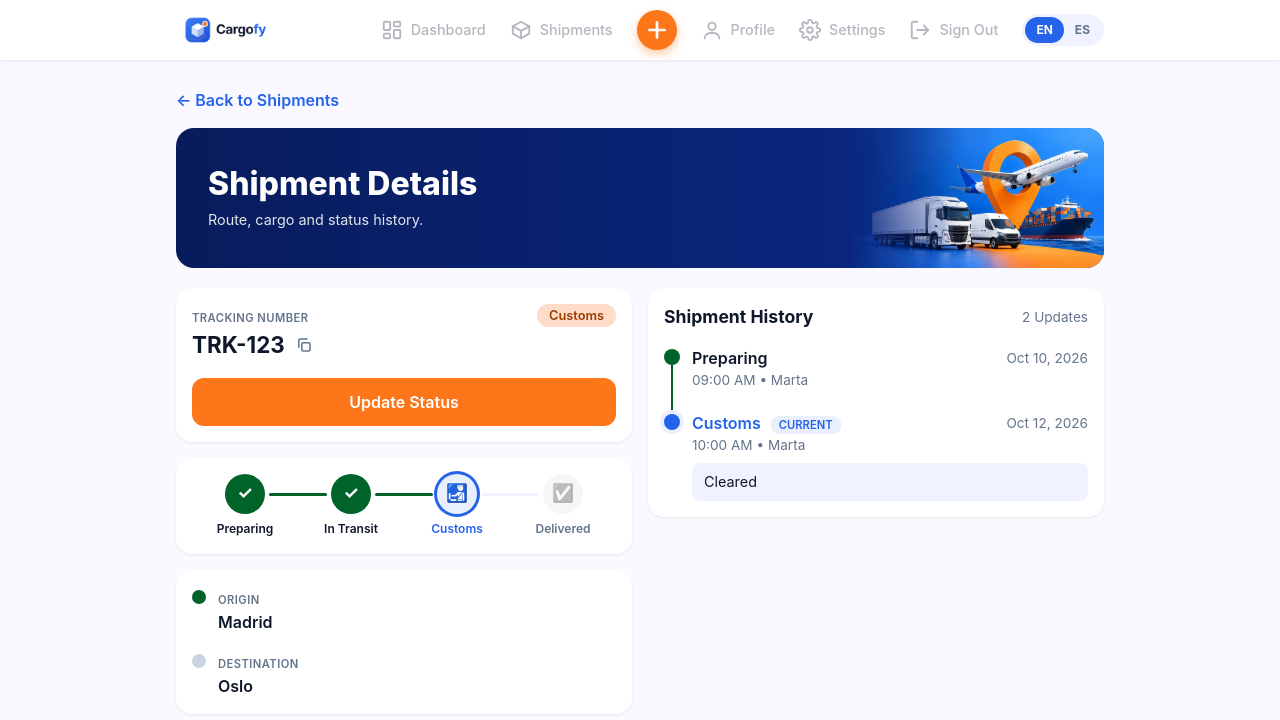
Test case: ShipmentDetailView › updates the status and closes the form after confirming
This screenshot has width=1280, height=720.
Click the button with class "detail__update": (404, 402) x1=192 y1=378 x2=616 y2=426
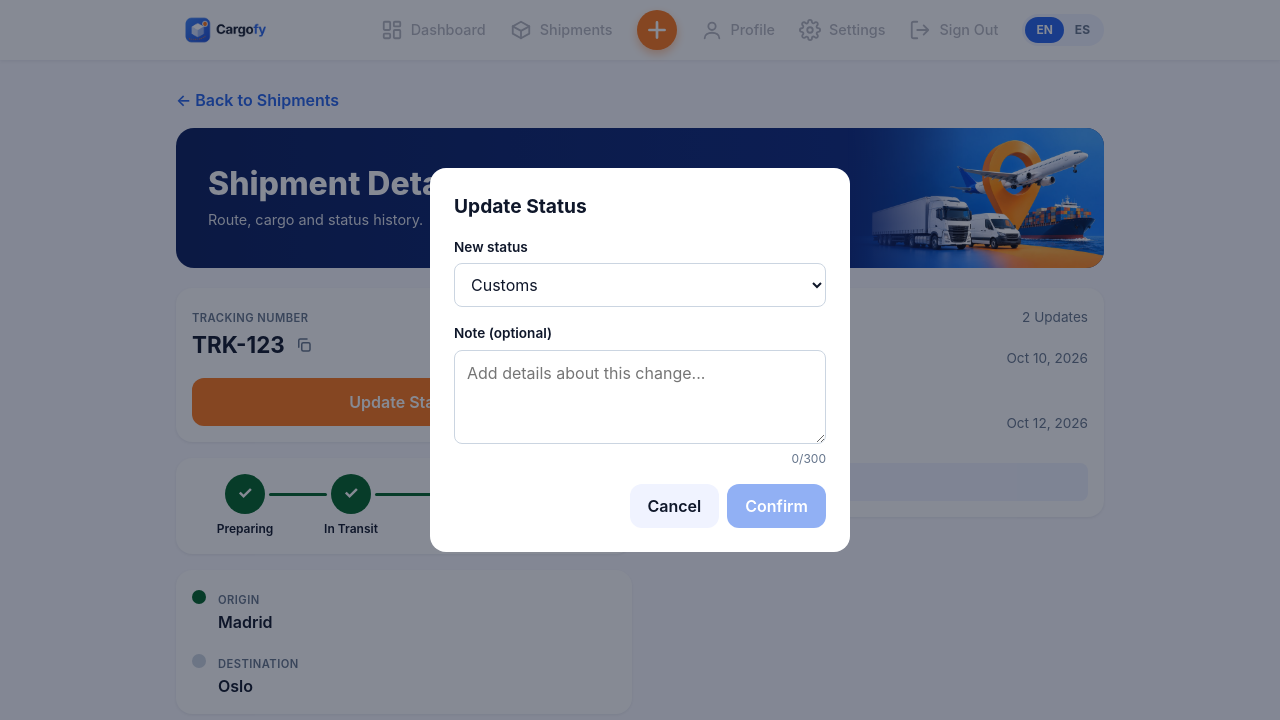
Select "Delivered" in the dropdown labelled "New status": (640, 285) x1=454 y1=263 x2=826 y2=307
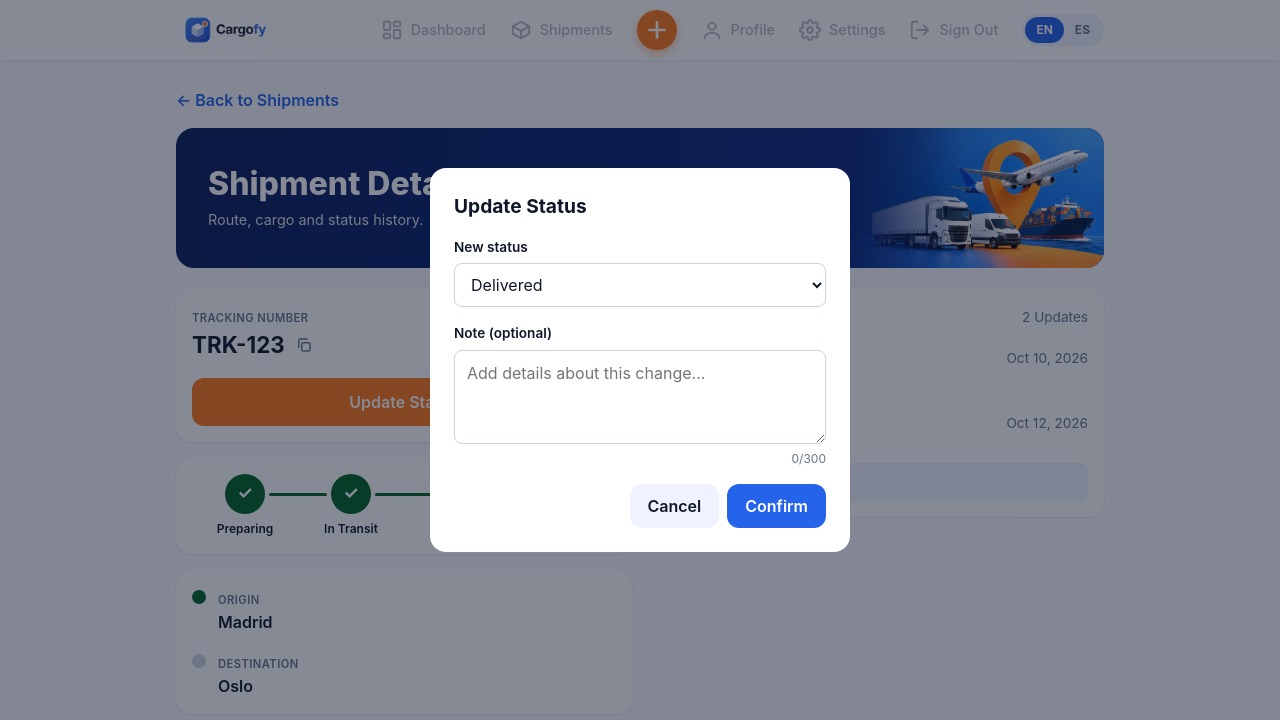
In the text box labelled "Note (optional) 0/300": (640, 397) x1=454 y1=350 x2=826 y2=444, type "Arrived"
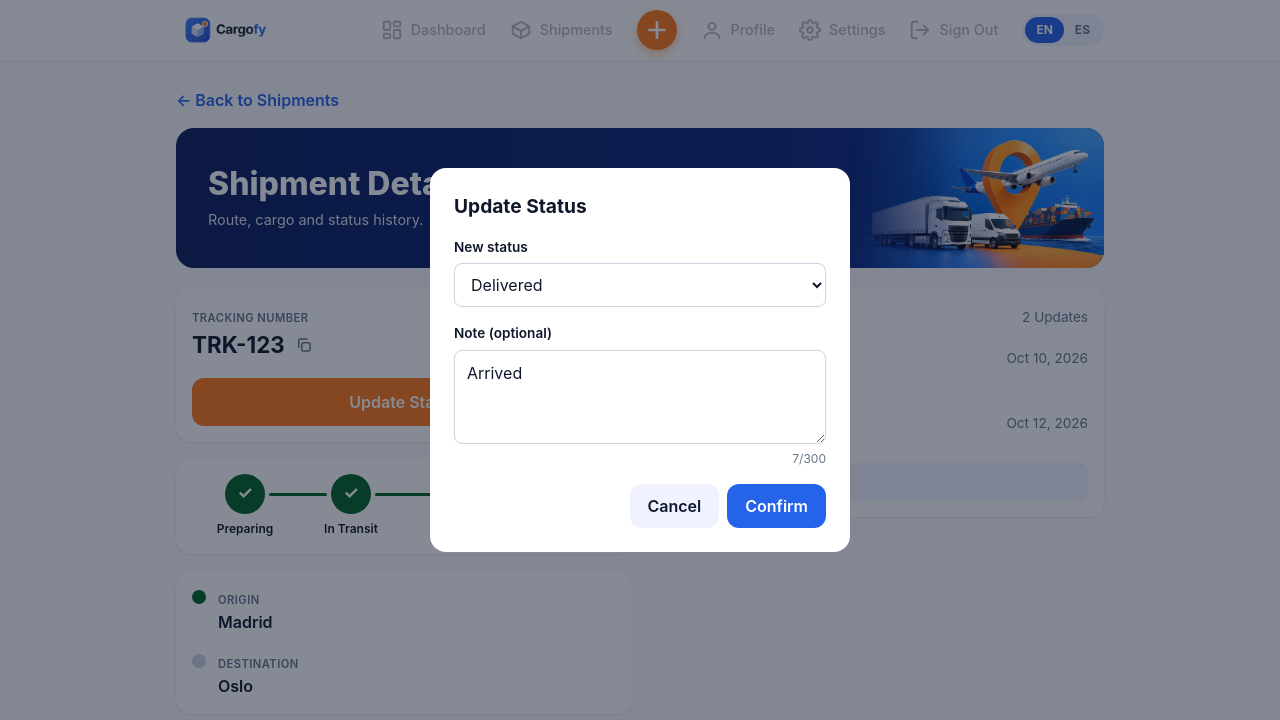
Submit the dialog, box x1=430 y1=168 x2=850 y2=552
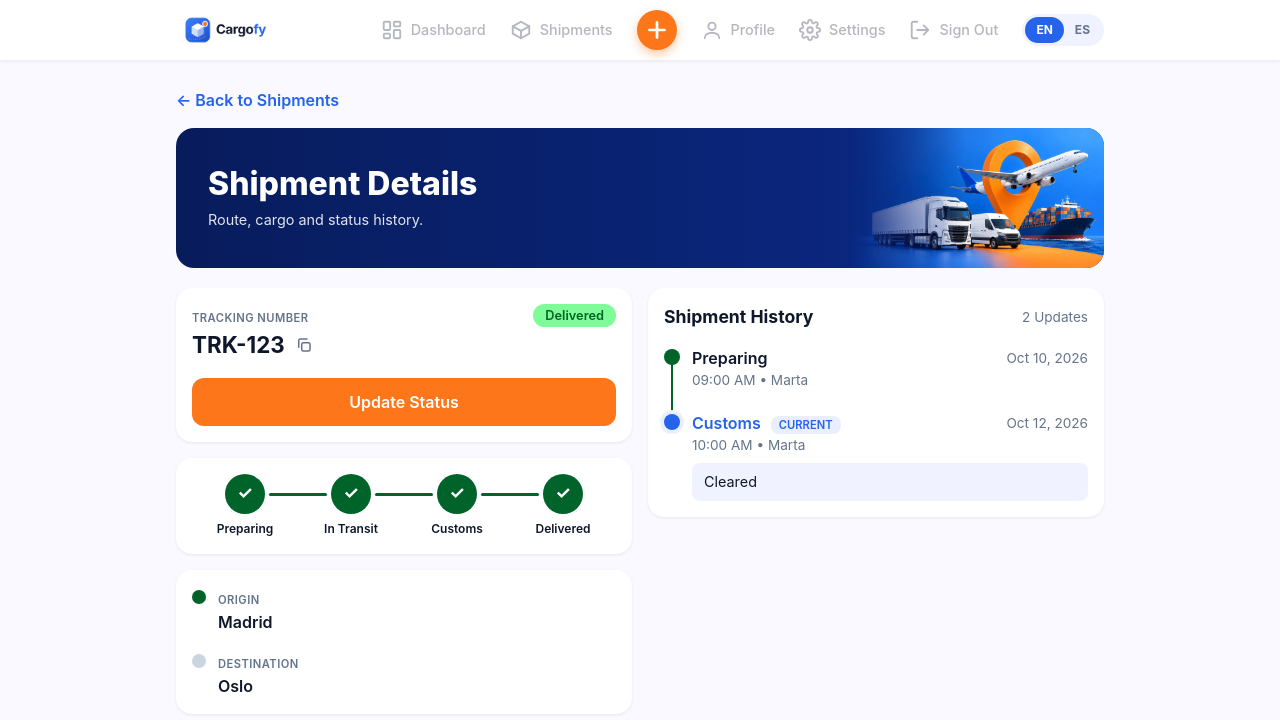
Now the text with class "badge" reads "Delivered", box x1=545 y1=308 x2=604 y2=323
